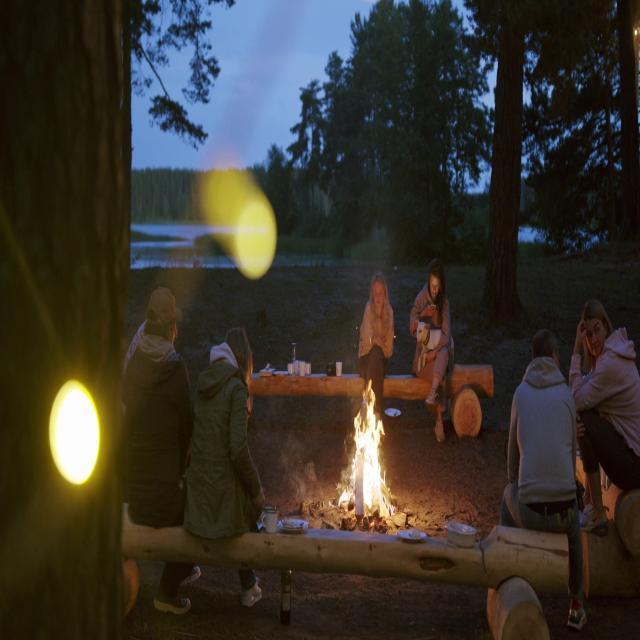Fire: (340, 378, 390, 524)
